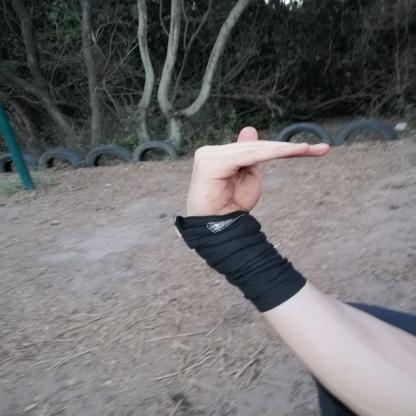KHAA: (165, 116, 343, 233)
